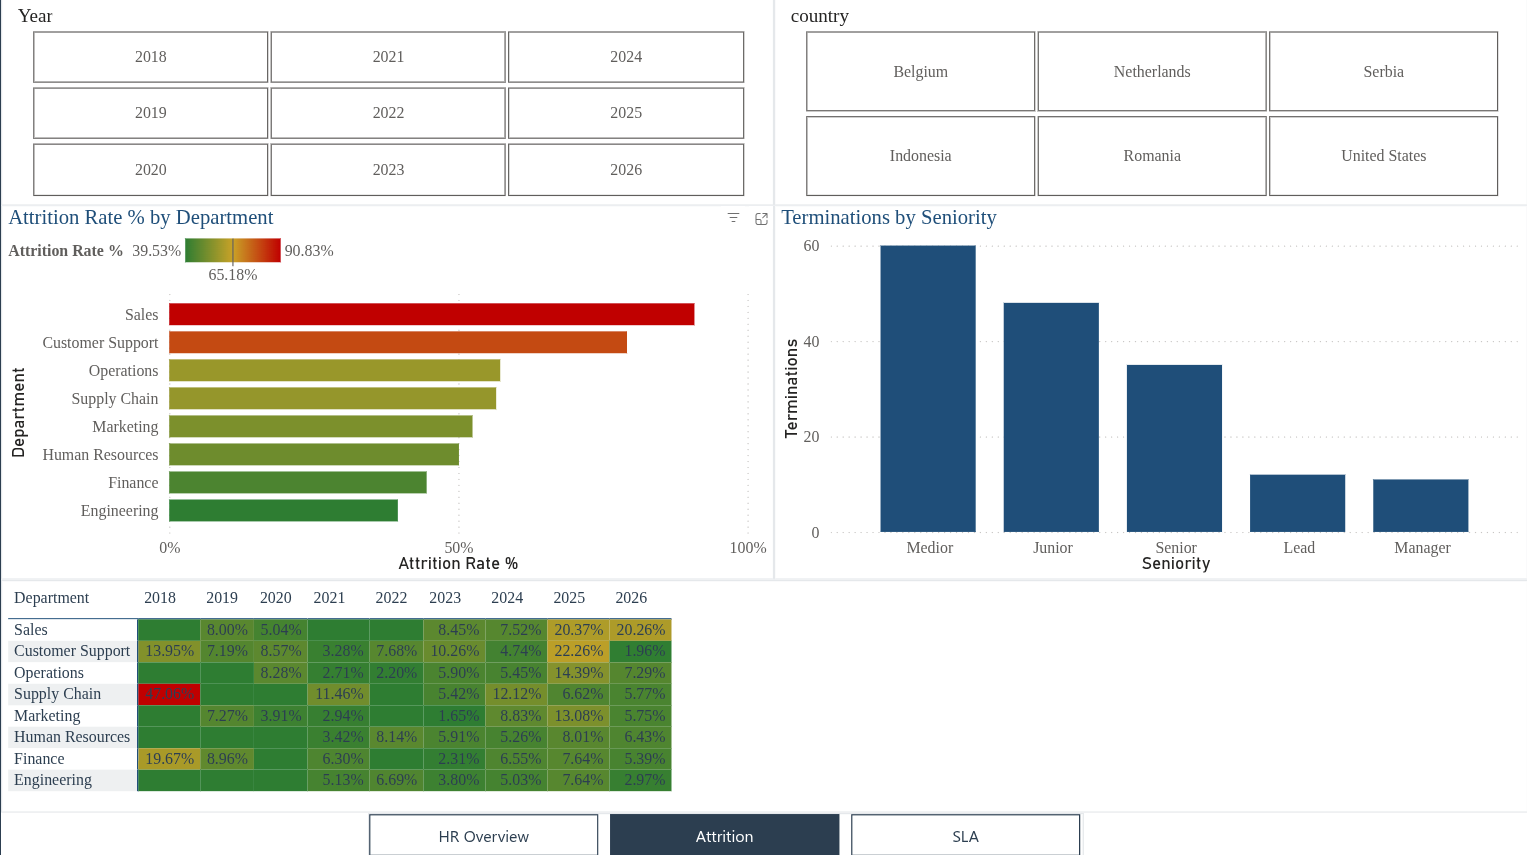

This screenshot's page, from the dashboard's own definition file:
{"tool":"powerbi","page":{"name":"Attrition","canvas":[1280,720],"ordinal":1},"visuals":[{"type":"clusteredBarChart","fields":{"Category":["Dim_Department.department_name"],"Y":["_Measures.Attrition Rate %"]},"box":[0,173.5,647.7,314],"z":0},{"type":"pivotTable","fields":{"Rows":["Dim_Department.department_name"],"Columns":["Dim_Date.Year"],"Values":["_Measures.Attrition Rate %"]},"box":[0,487.6,1279.9,195.2],"z":1000},{"type":"clusteredColumnChart","fields":{"Category":["Dim_Employee.job_level"],"Y":["_Measures.Terminations"]},"box":[647.7,173.5,632.2,314],"z":2000},{"type":"slicer","fields":{"Values":["Dim_Date.Year"]},"box":[0,0,647.7,173.5],"z":3000},{"type":"slicer","fields":{"Values":["Dim_Location.country"]},"box":[647.7,0,632.2,173.5],"z":5000},{"type":"pageNavigator","box":[307.8,682.8,600.2,37.2],"z":6000}]}

Visuals, with their boxes in screenshot pixels (x1, y1, x2, y2), scaled from the page's 1280x720 canvas onto the 1527x855 screenshot:
clusteredBarChart - Dim_Department.department_name x _Measures.Attrition Rate %: <region>0, 206, 773, 579</region>
pivotTable - Dim_Department.department_name x Dim_Date.Year: <region>0, 579, 1526, 811</region>
clusteredColumnChart - Dim_Employee.job_level x _Measures.Terminations: <region>773, 206, 1526, 579</region>
slicer - Dim_Date.Year: <region>0, 0, 773, 206</region>
slicer - Dim_Location.country: <region>773, 0, 1526, 206</region>
pageNavigator: <region>367, 811, 1083, 854</region>
